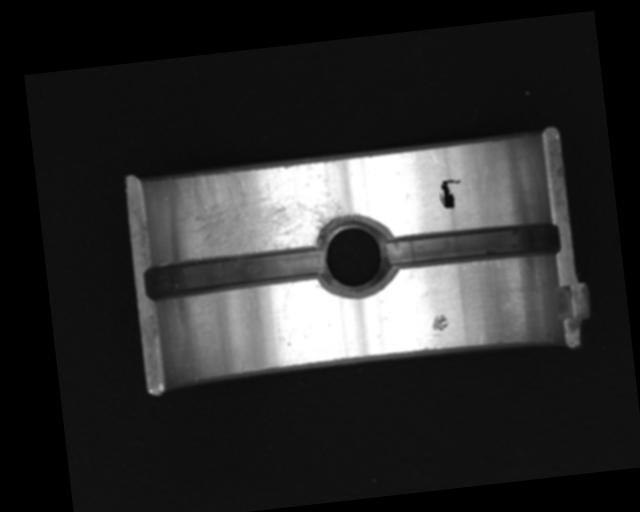blot: (436, 177, 464, 210)
bruise: (429, 313, 449, 332)
gap: (142, 243, 327, 304), (383, 218, 559, 272)
hole: (313, 211, 396, 300)
scratch: (163, 158, 348, 262)
